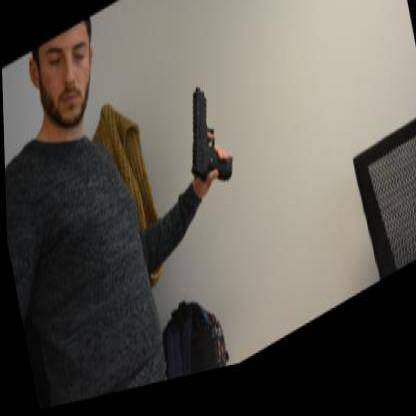pistol: (174, 81, 233, 209)
